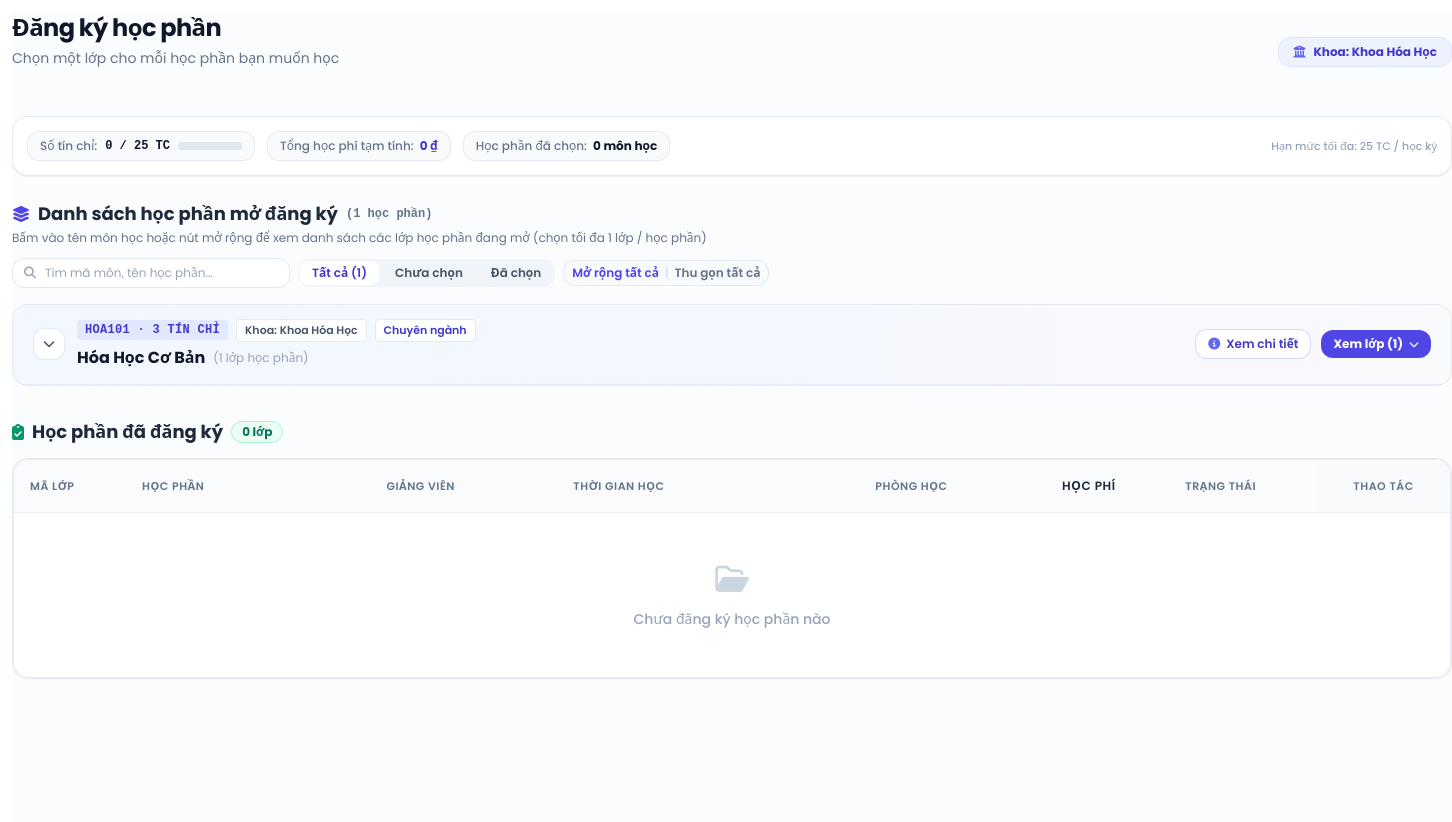
it: StudentCourseRegistration Department Filtering › only displays classes belonging to user department and filters out other departments
This screenshot has width=1452, height=822.
Expand accordion to reveal chemistry class
What coordinates should you click on to do the following:
click the text "Hóa Học Cơ Bản"
I would click on:
 (141, 358)
Its box is 77,346 -> 205,370.
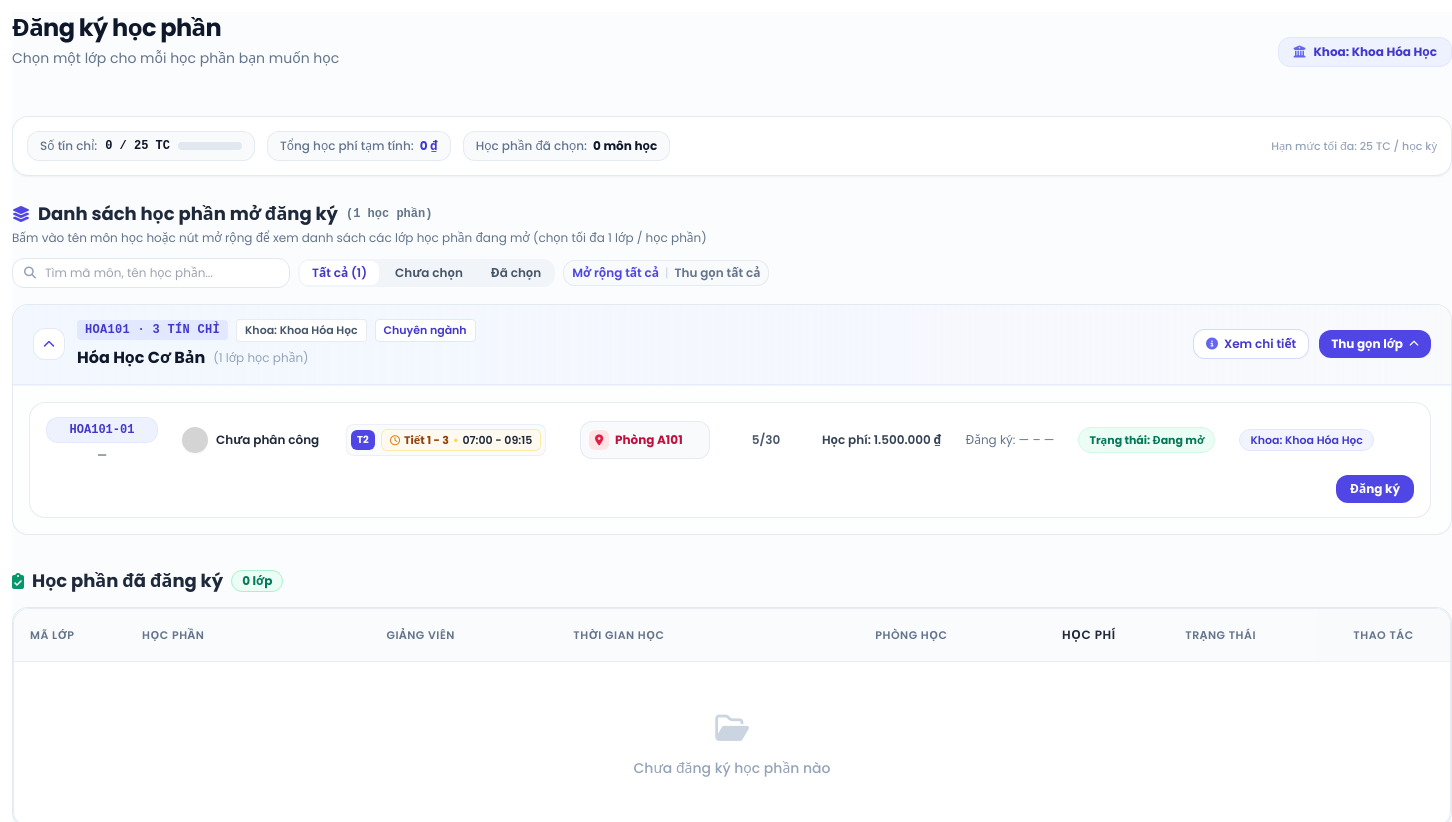
Check: the text "HOA101-01" is shown, box 46,416 -> 158,442
